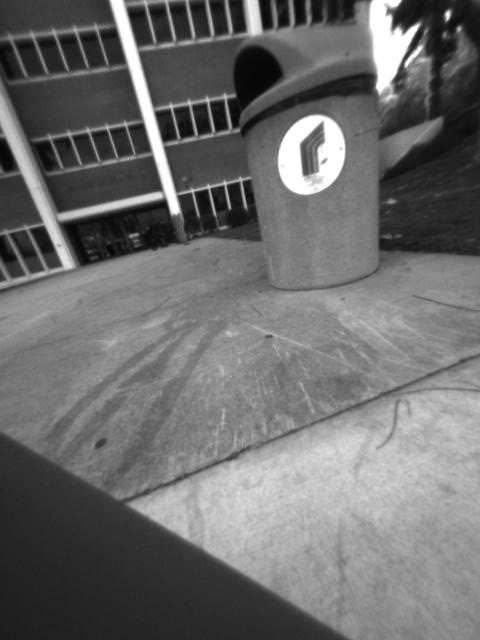trashcan: (230, 28, 389, 288)
